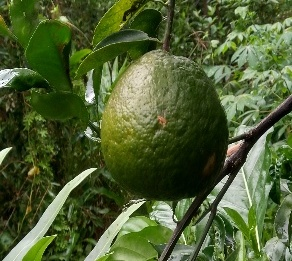Cam: (95, 47, 229, 200)
